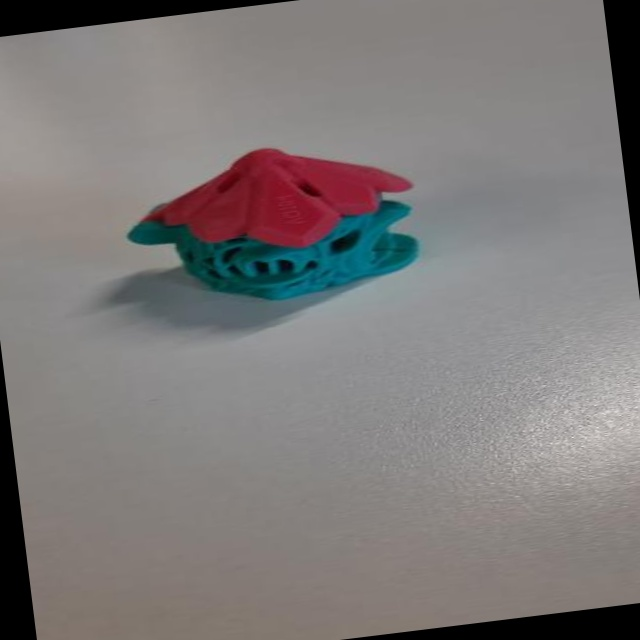House: (82, 109, 453, 370)
